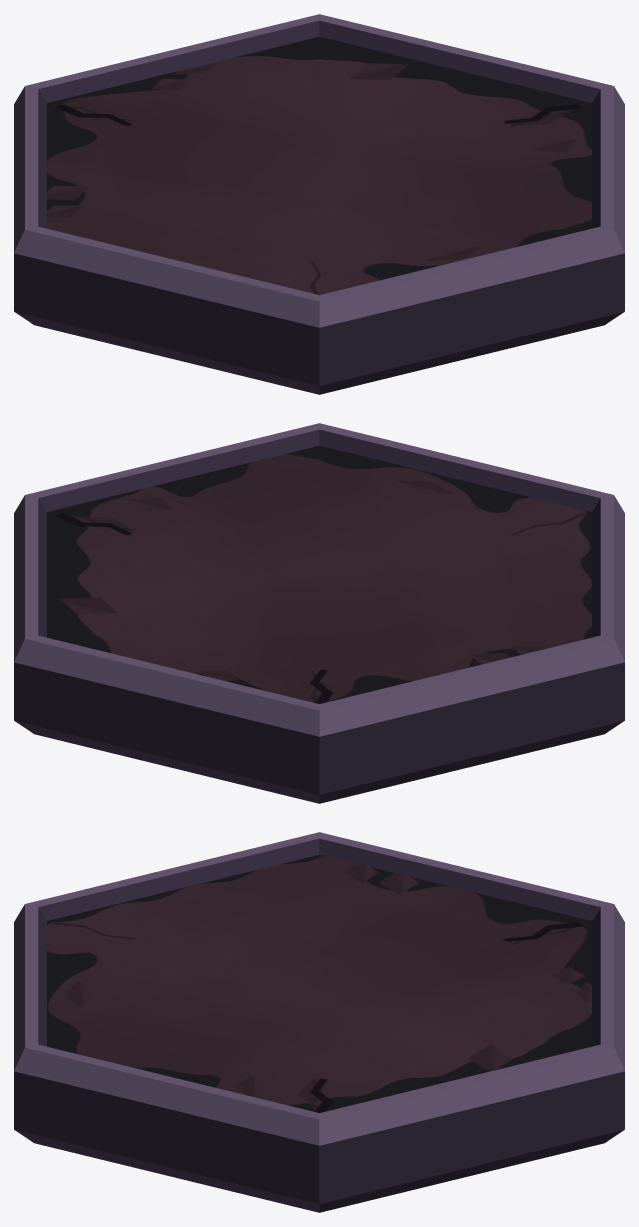
File: Hex_Terra_Corrompida.glb
3 renders of one model, top to bottom at view 1: azimuth 30°, elevation 25°; view 2: azimuth 150°, elevation 25°; view 3: azimuth 270°, elevation 25°, orthographic.
Parts seen in each view (by area): view 1: Hex_template_0; view 2: Hex_template_0; view 3: Hex_template_0.
Boxes of the visible parts, <box> form: Hex_template_0: <box>14,14,624,394</box>; Hex_template_0: <box>14,423,624,803</box>; Hex_template_0: <box>14,832,624,1212</box>.
Bounding box in the file's own units: 1.9 × 0.29 × 1.64.
Materials: 3 (1 with a texture image).
